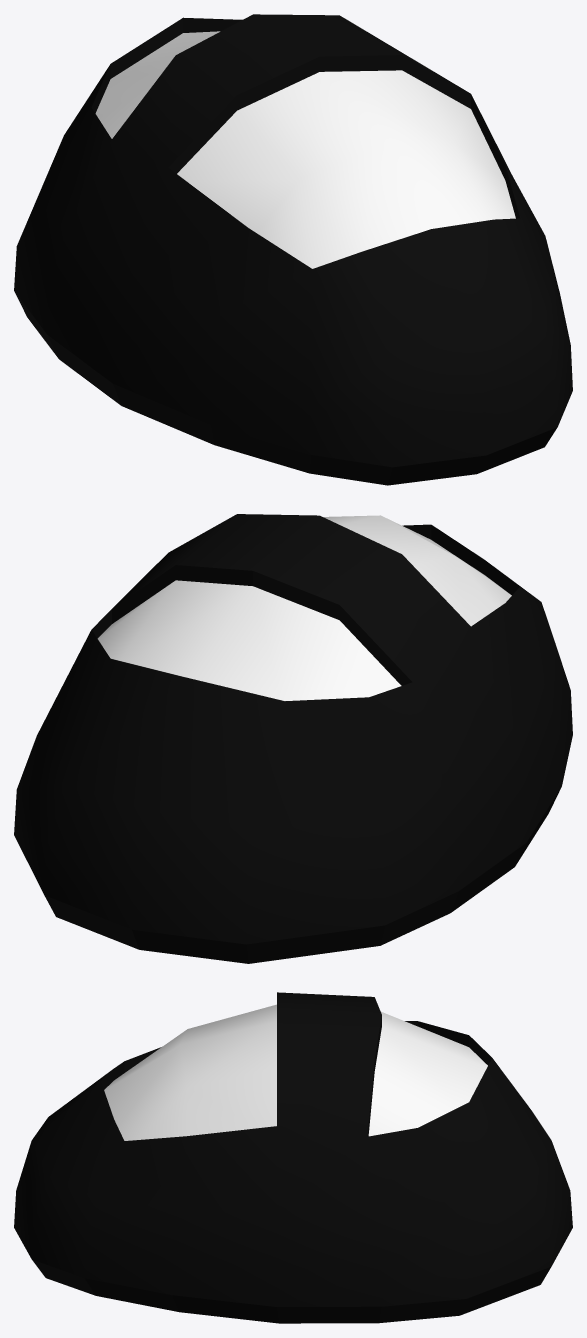
Rendered from leg.fbx.
The picture shows the model from 3 angles, top to bottom: view 1: azimuth 30°, elevation 25°; view 2: azimuth 150°, elevation 25°; view 3: azimuth 270°, elevation 25°; orthographic projection. The views are drawn at different scales.
Parts seen in each view (by area): view 1: Shoes2; view 2: Shoes2; view 3: Shoes2.
Part boxes in pixels (<box>): Shoes2: <box>14,14,572,485</box>; Shoes2: <box>14,514,572,963</box>; Shoes2: <box>14,992,572,1323</box>.
Bounding box in the file's own units: 0.0262 × 0.0183 × 0.0389.
2 materials, 2 textured.
